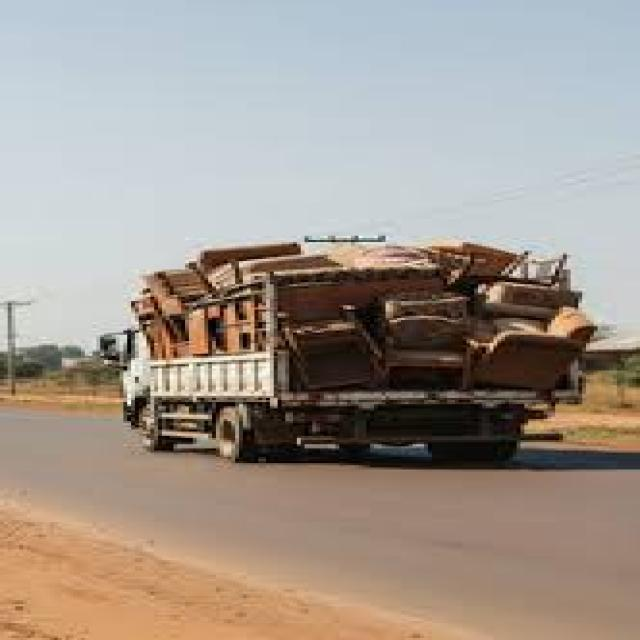uncovered: (124, 243, 596, 468)
